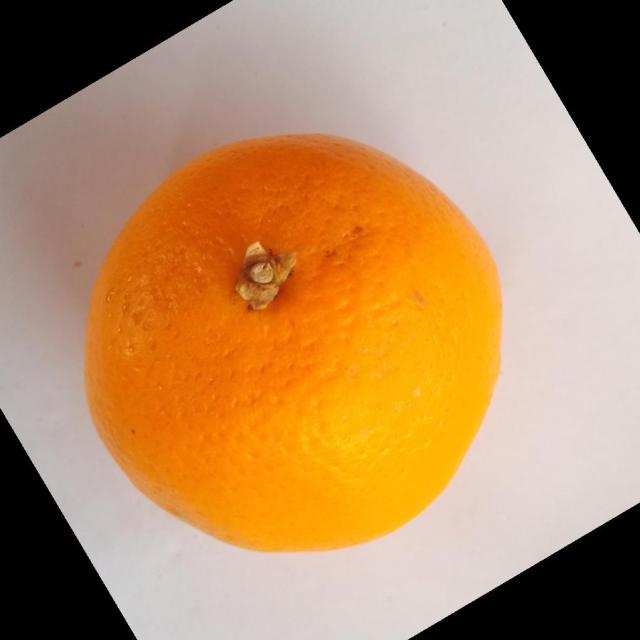fresh orange: (82, 131, 504, 554)
